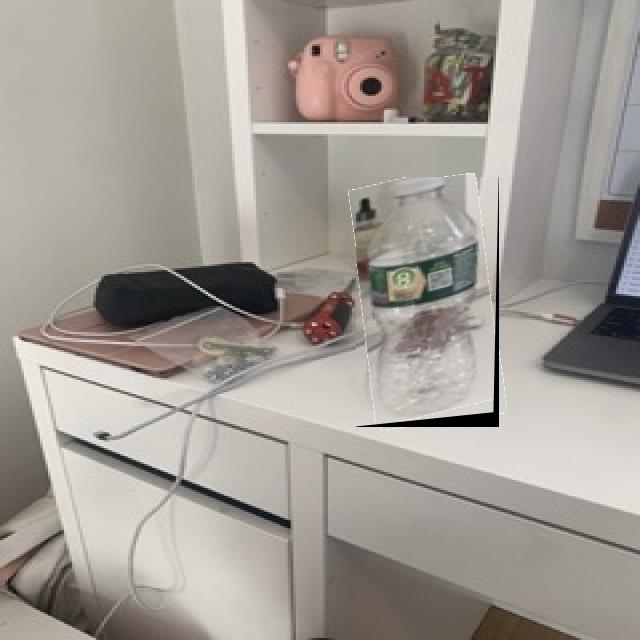water_bottle: (356, 177, 499, 427)
